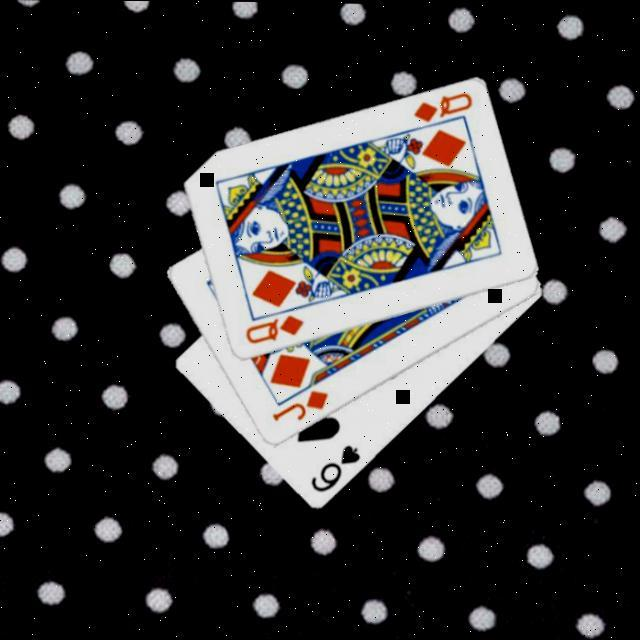6S: (309, 442, 366, 497)
JD: (270, 388, 334, 427)
QD: (244, 312, 308, 350), (411, 90, 477, 126)
